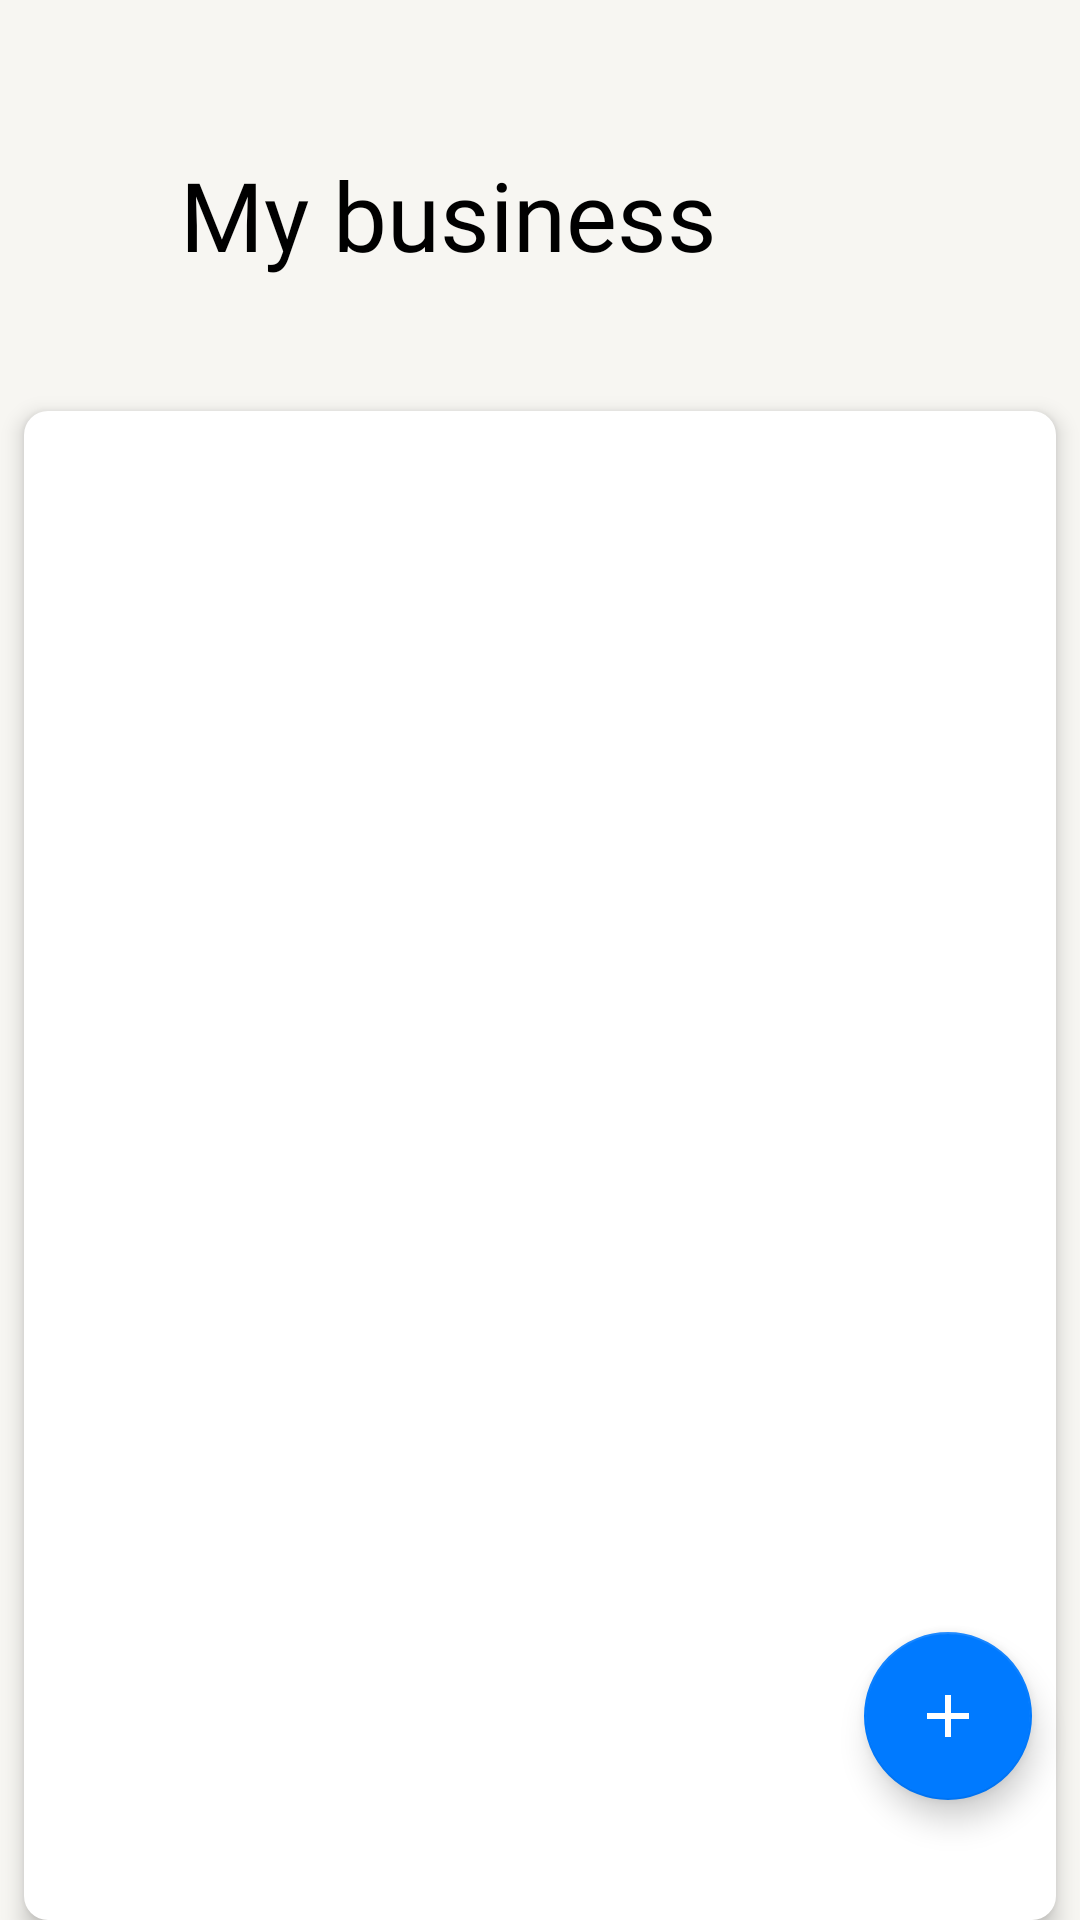

Point at icon controls on the screen. Image size 1080*1920, points as (x,y).
plus: (948,1716)
